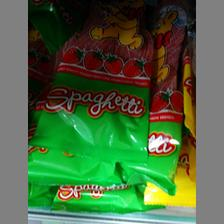Suessigkeit: (31, 10, 150, 162)
